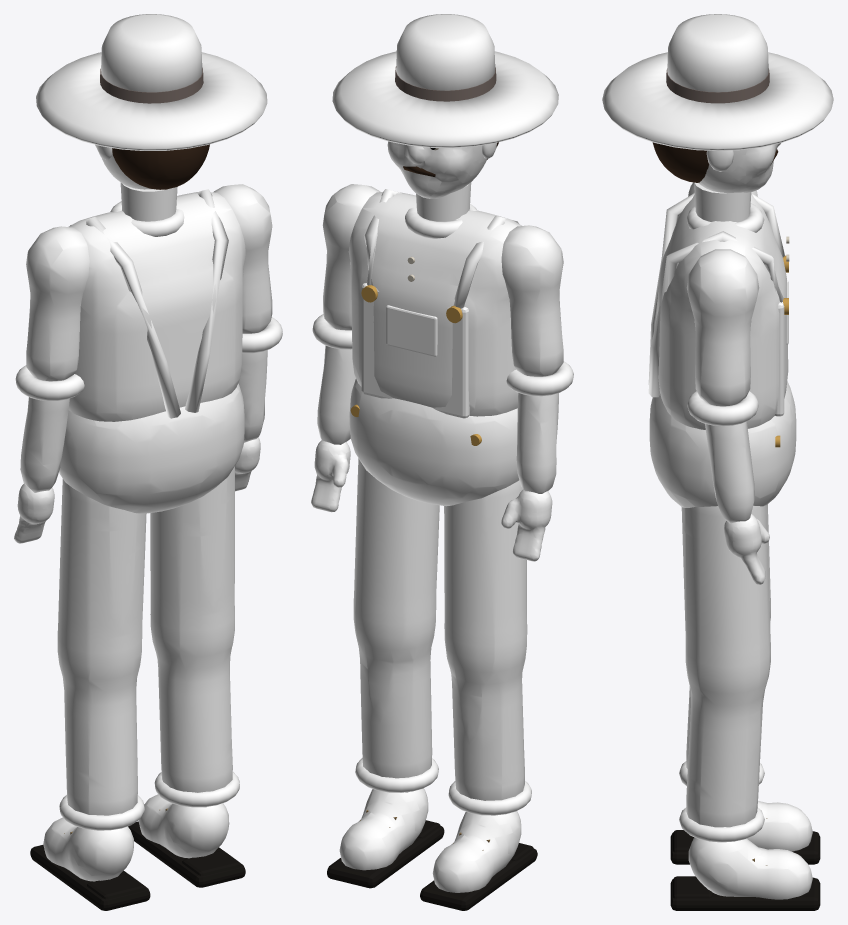
File: farmer.glb
The picture shows the model from 3 angles, left to right: view 1: azimuth 30°, elevation 25°; view 2: azimuth 150°, elevation 25°; view 3: azimuth 270°, elevation 25°; orthographic projection. The views are drawn at different scales.
Parts seen in each view (by area): view 1: body_mesh, leg_0_mesh, leg_1_mesh, head_mesh, arm_0_mesh, arm_1_mesh; view 2: body_mesh, leg_0_mesh, leg_1_mesh, head_mesh, arm_0_mesh, arm_1_mesh; view 3: leg_1_mesh, body_mesh, head_mesh, arm_1_mesh, leg_0_mesh.
Boxes of the visible parts, left/top/right/bottom form: body_mesh: left=59, top=183, right=245, bottom=513; leg_0_mesh: left=30, top=479, right=150, bottom=910; leg_1_mesh: left=128, top=466, right=245, bottom=887; head_mesh: left=36, top=14, right=267, bottom=189; arm_0_mesh: left=14, top=226, right=89, bottom=543; arm_1_mesh: left=213, top=184, right=282, bottom=491; body_mesh: left=348, top=182, right=521, bottom=506; leg_0_mesh: left=420, top=480, right=537, bottom=910; leg_1_mesh: left=327, top=458, right=444, bottom=888; head_mesh: left=332, top=14, right=558, bottom=198; arm_0_mesh: left=501, top=225, right=573, bottom=561; arm_1_mesh: left=311, top=184, right=380, bottom=512; leg_1_mesh: left=670, top=505, right=820, bottom=910; body_mesh: left=648, top=182, right=796, bottom=507; head_mesh: left=602, top=14, right=833, bottom=192; arm_1_mesh: left=686, top=249, right=769, bottom=584; leg_0_mesh: left=670, top=504, right=820, bottom=864.
Size of the model in its own units: 0.596 by 1.89 by 0.464.
